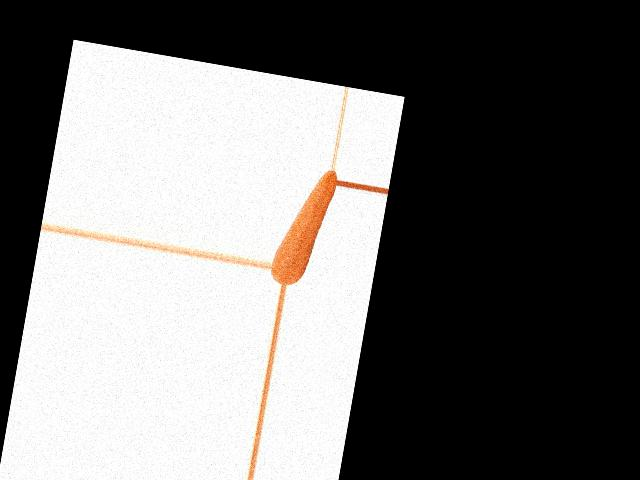carrot: (269, 164, 338, 291)
